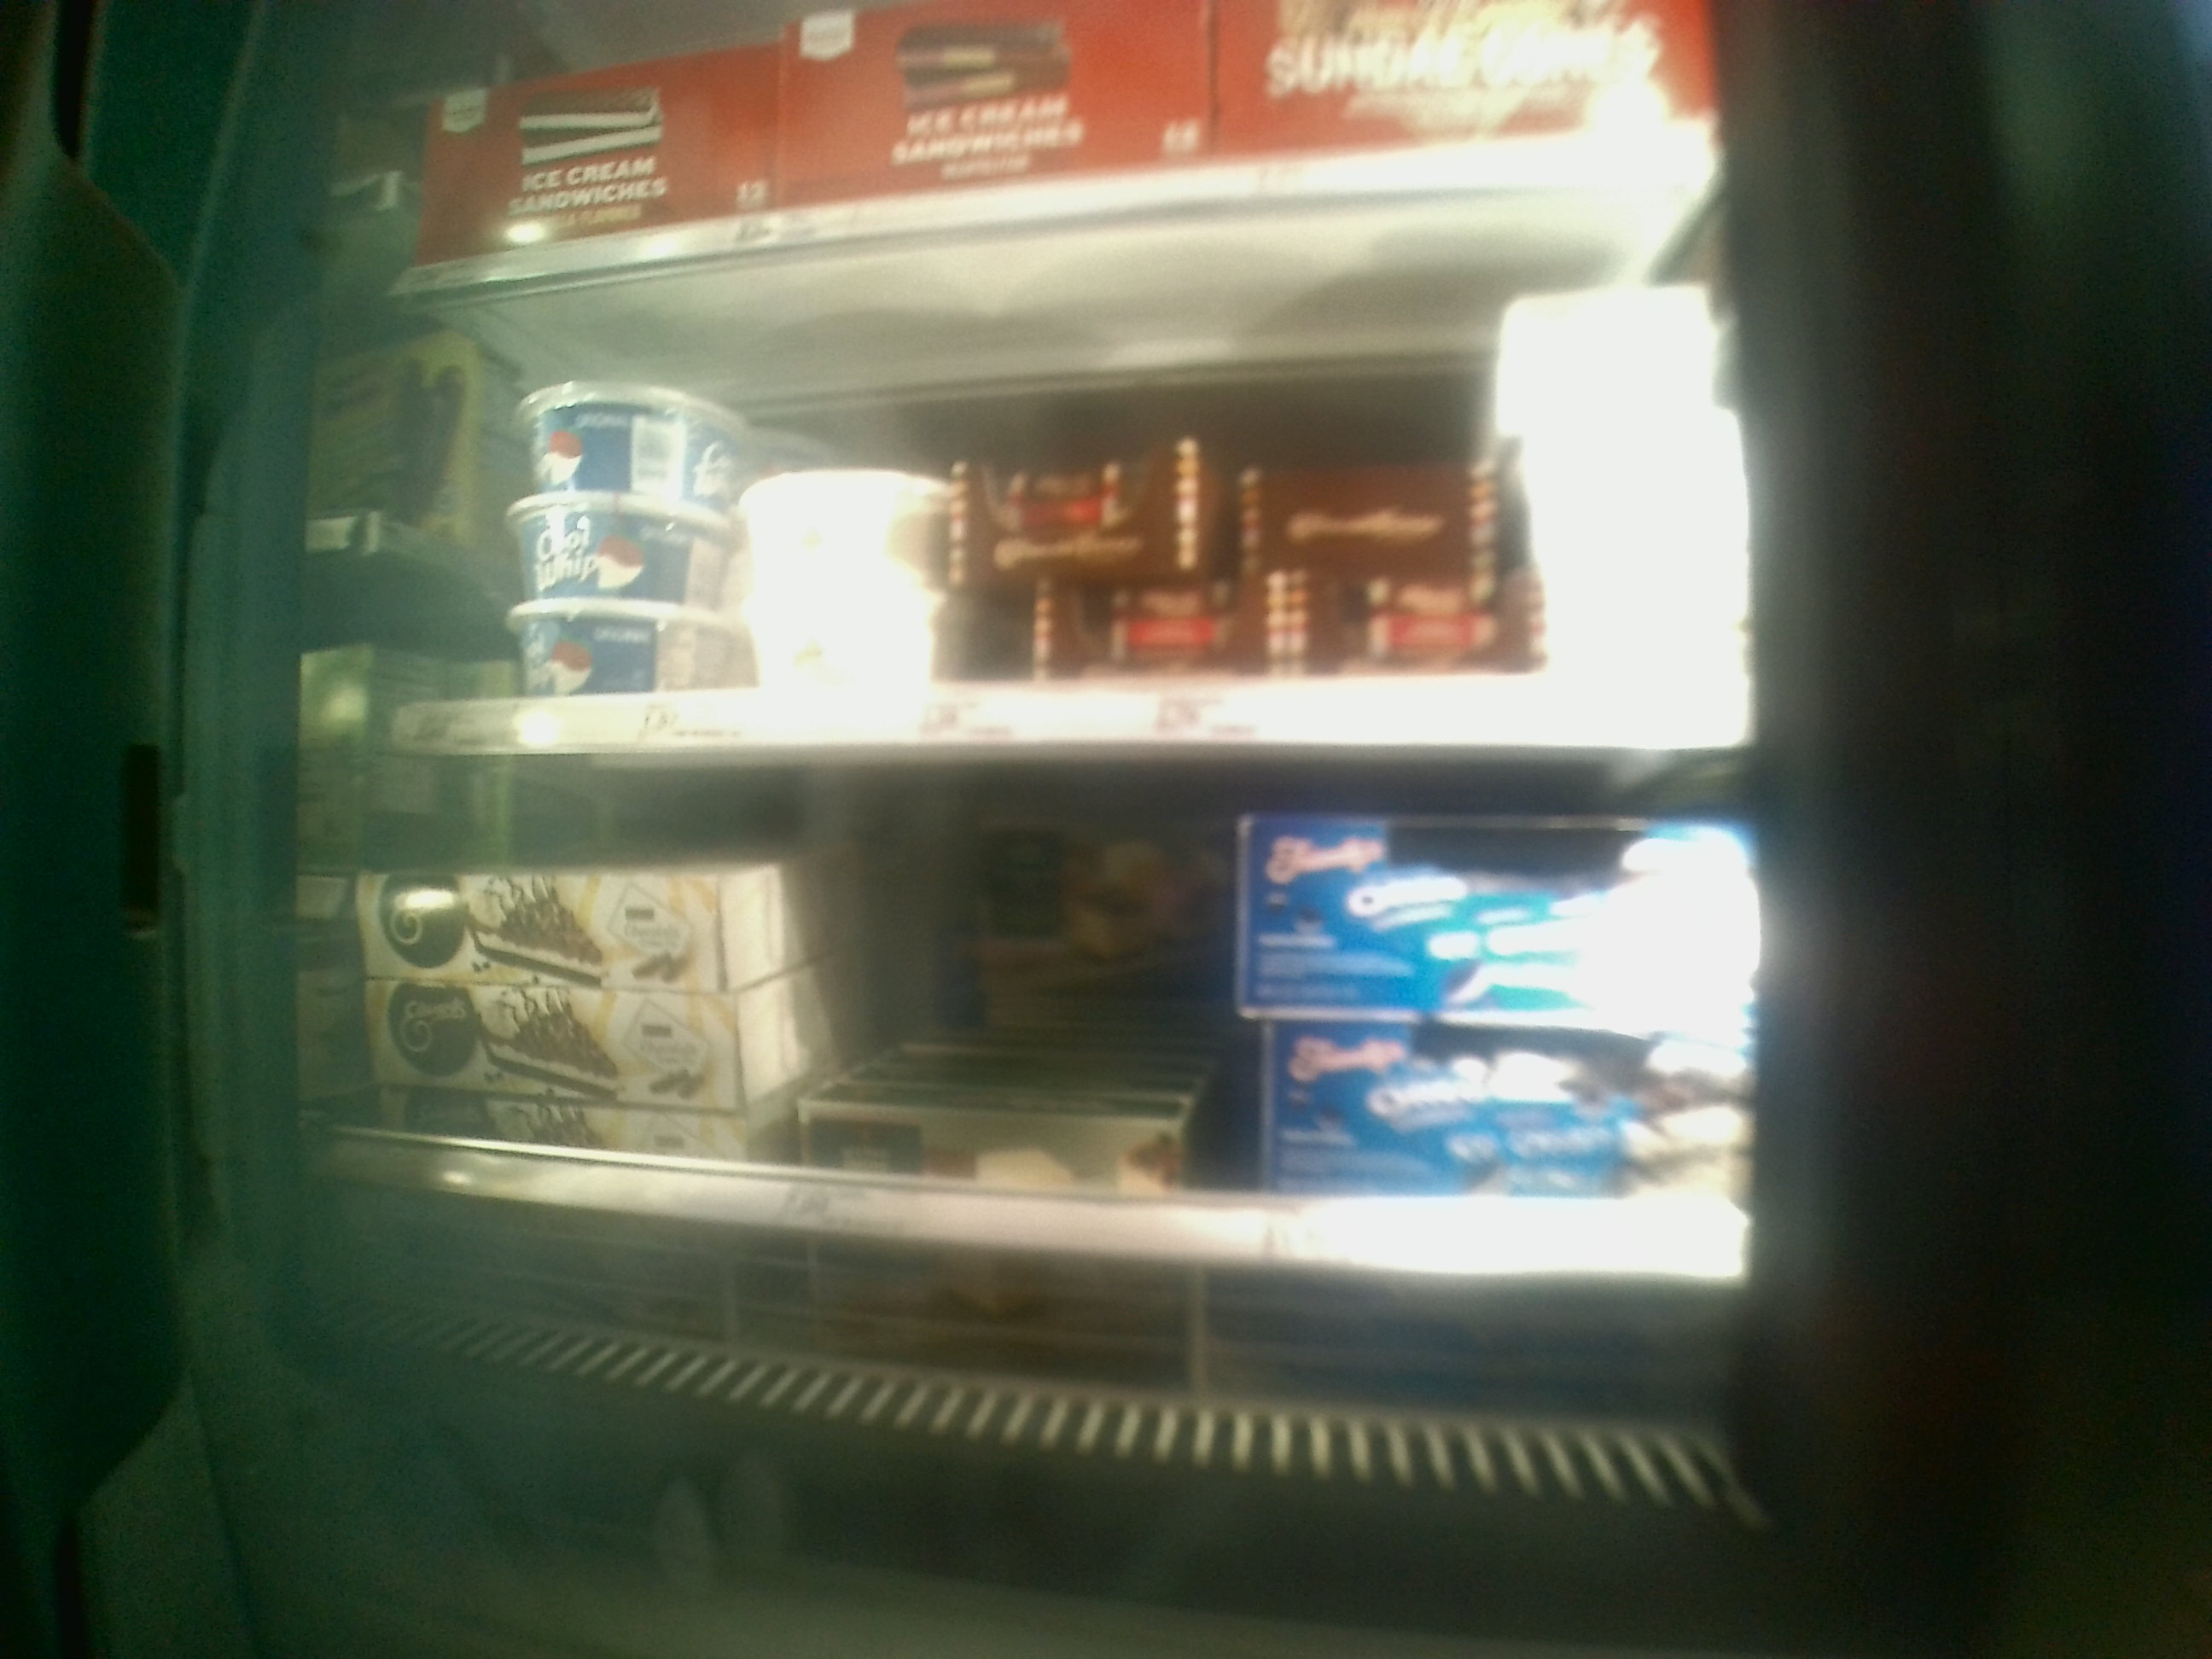shelf: (320, 742, 1771, 1361), (326, 197, 1747, 746)
